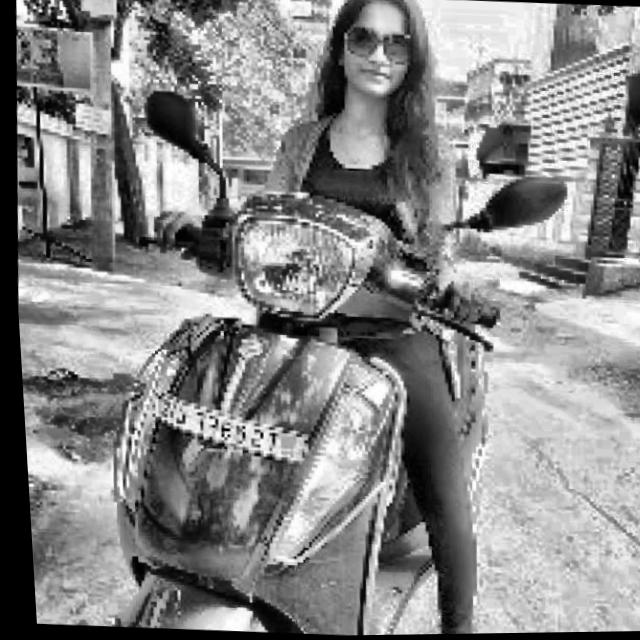motorcycle: (72, 77, 587, 639)
